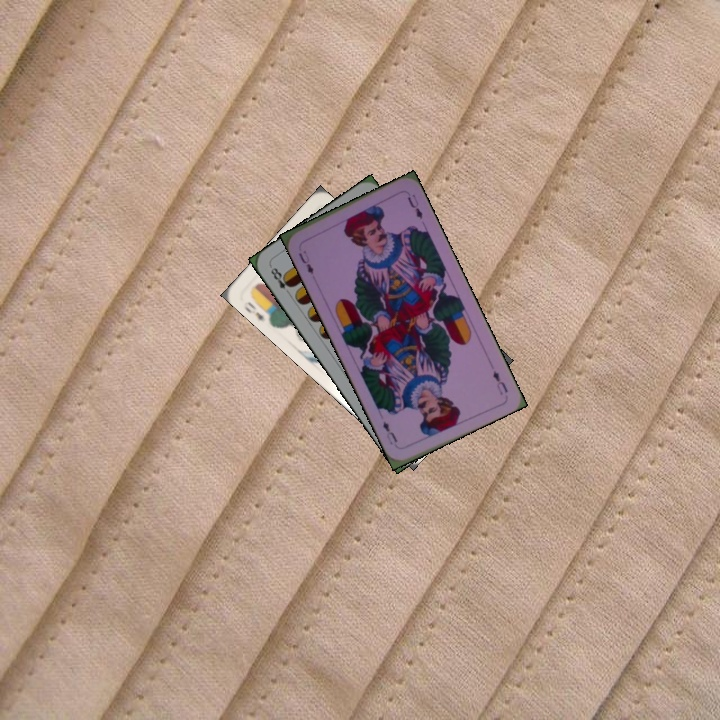E8: (266, 262, 295, 298)
EO: (241, 296, 274, 324)
EU: (488, 366, 511, 397), (294, 247, 316, 277)
